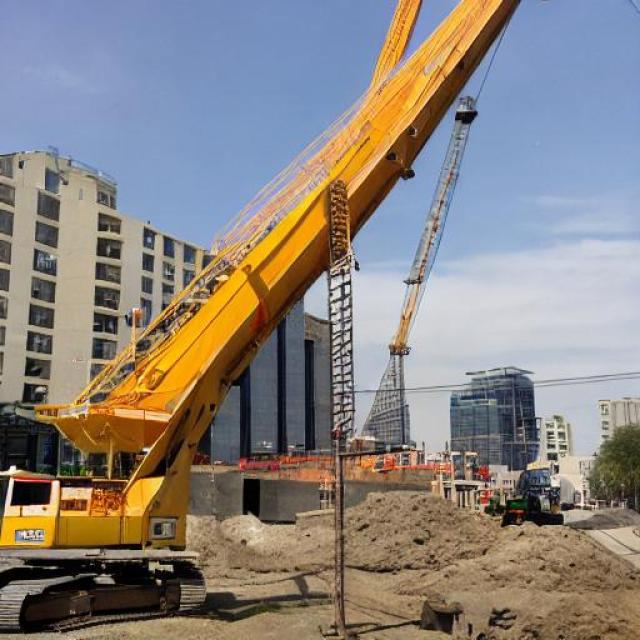crane: (282, 123, 473, 203), (450, 142, 541, 220)
excavator: (91, 341, 208, 444)
